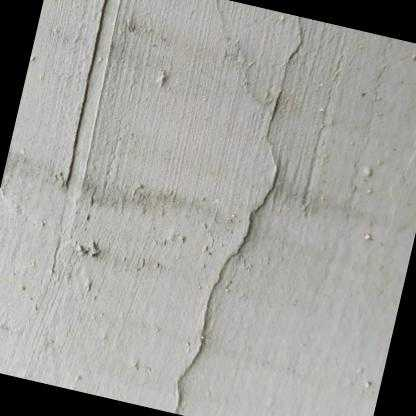crack: (170, 15, 306, 415), (65, 0, 109, 181)
